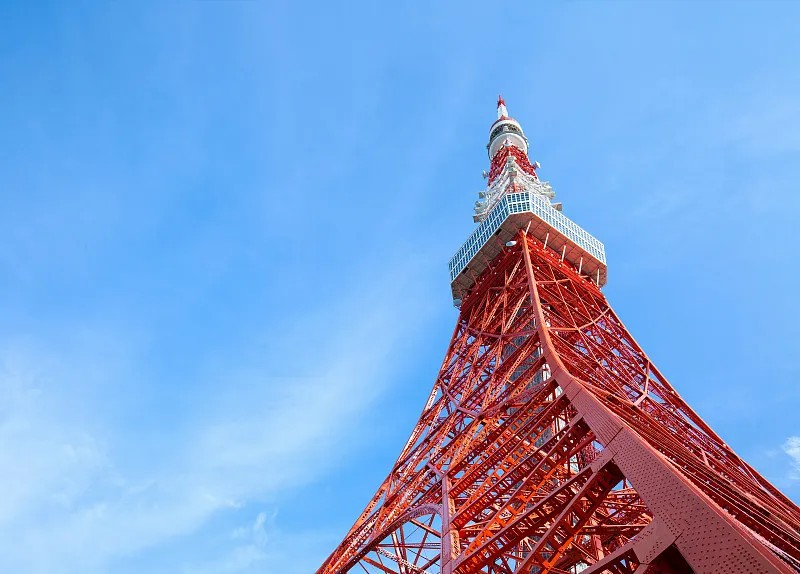Tokyo: (314, 87, 800, 573)
